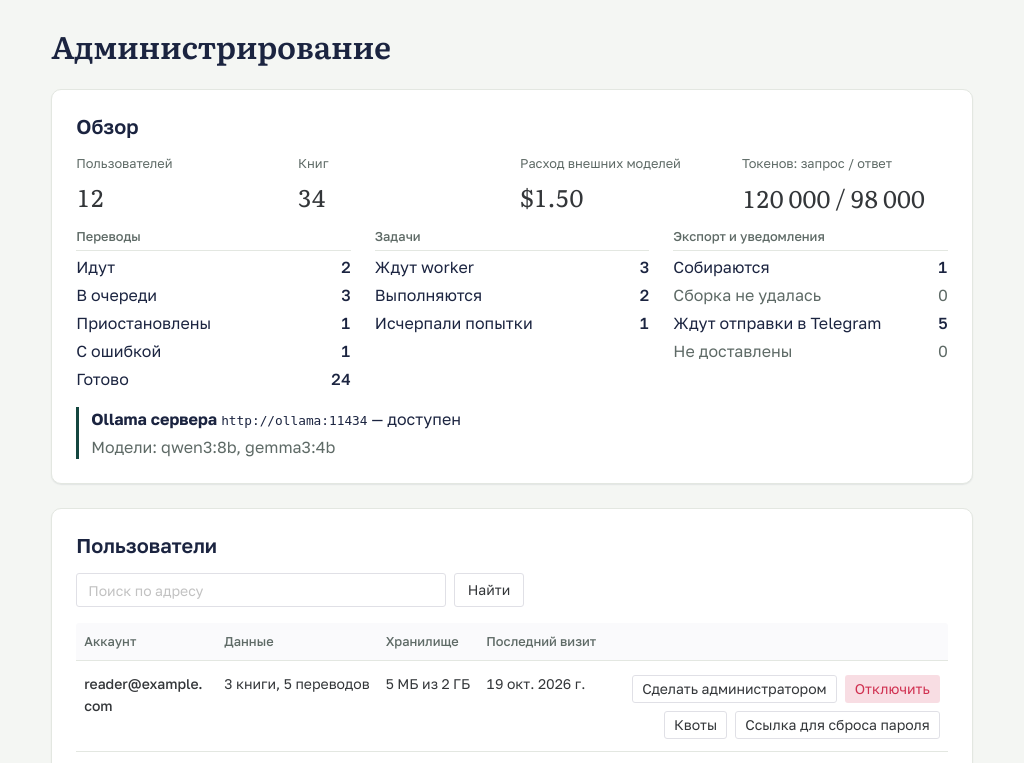
Test: админ-панель › ссылка сброса пароля для передачи вручную
Click the button with class "reset" at [837, 725], box 735,711 -> 940,739
(page scrolled)
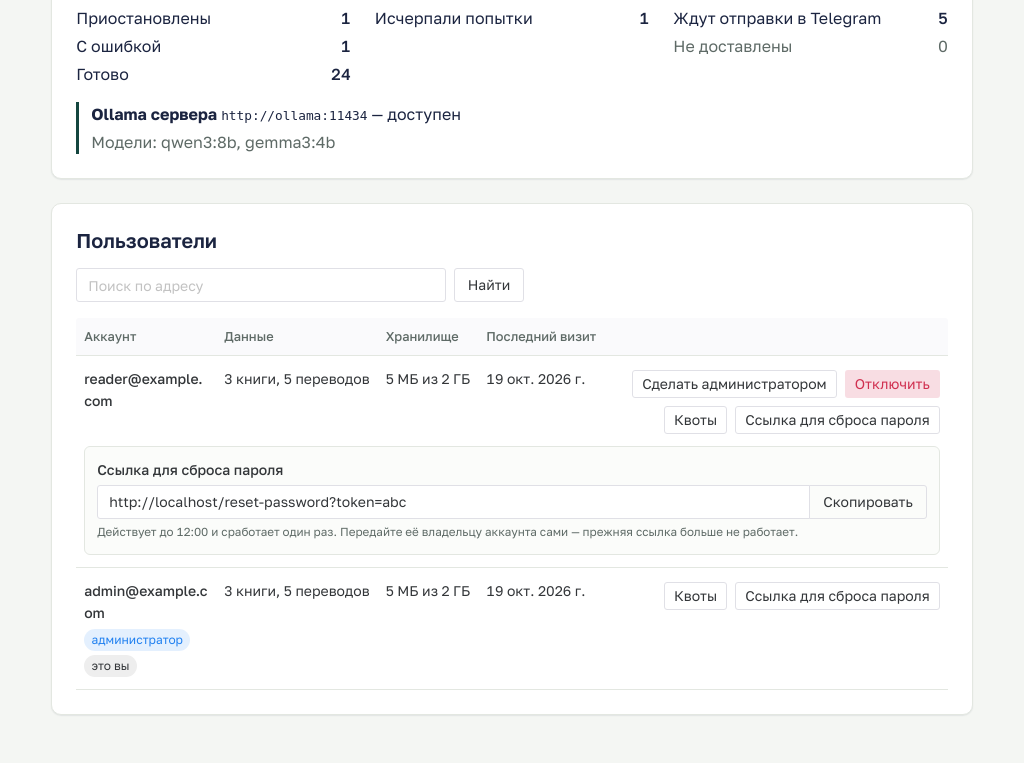
Expected: the table that starts with "reader@example.com" shows "сработает один раз", 97,525 -> 798,539
